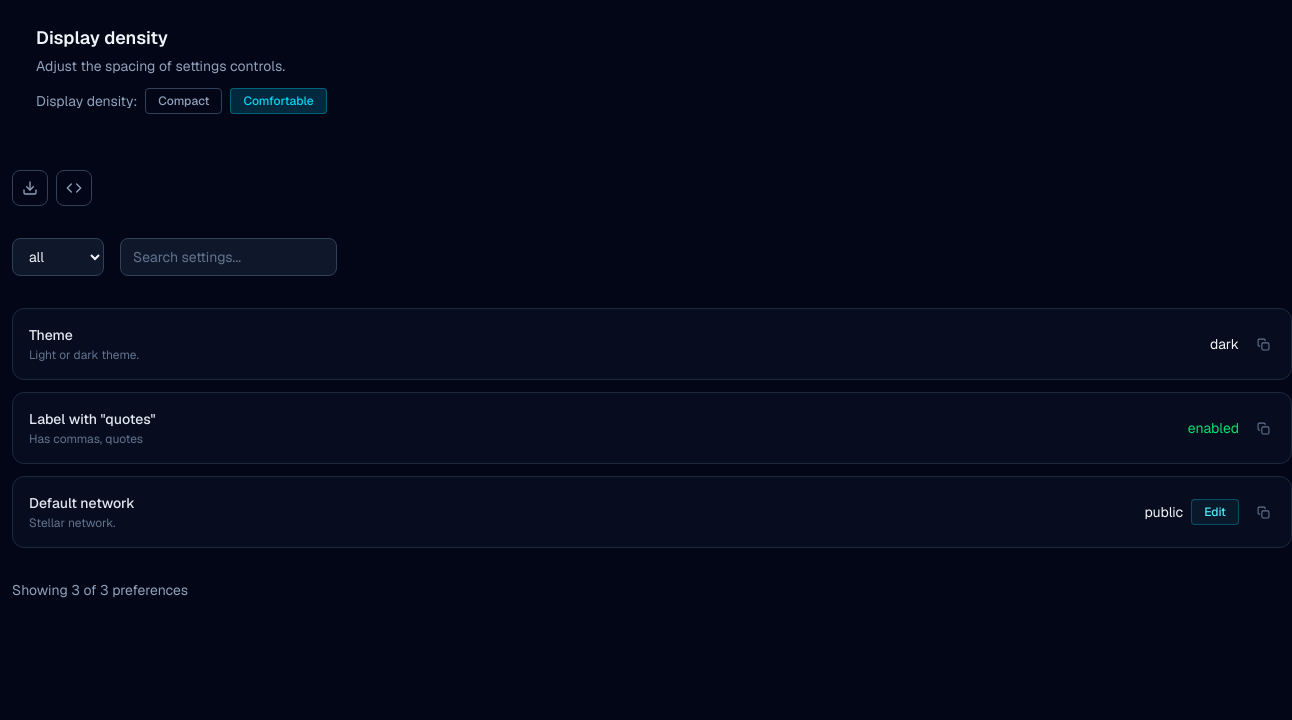
Test case: Settings page — theme export controls › CSV export › announces the export to assistive technology
This screenshot has width=1292, height=720.
Click the button with test id "export-csv-btn" at (30, 188), box x1=12 y1=170 x2=48 y2=206
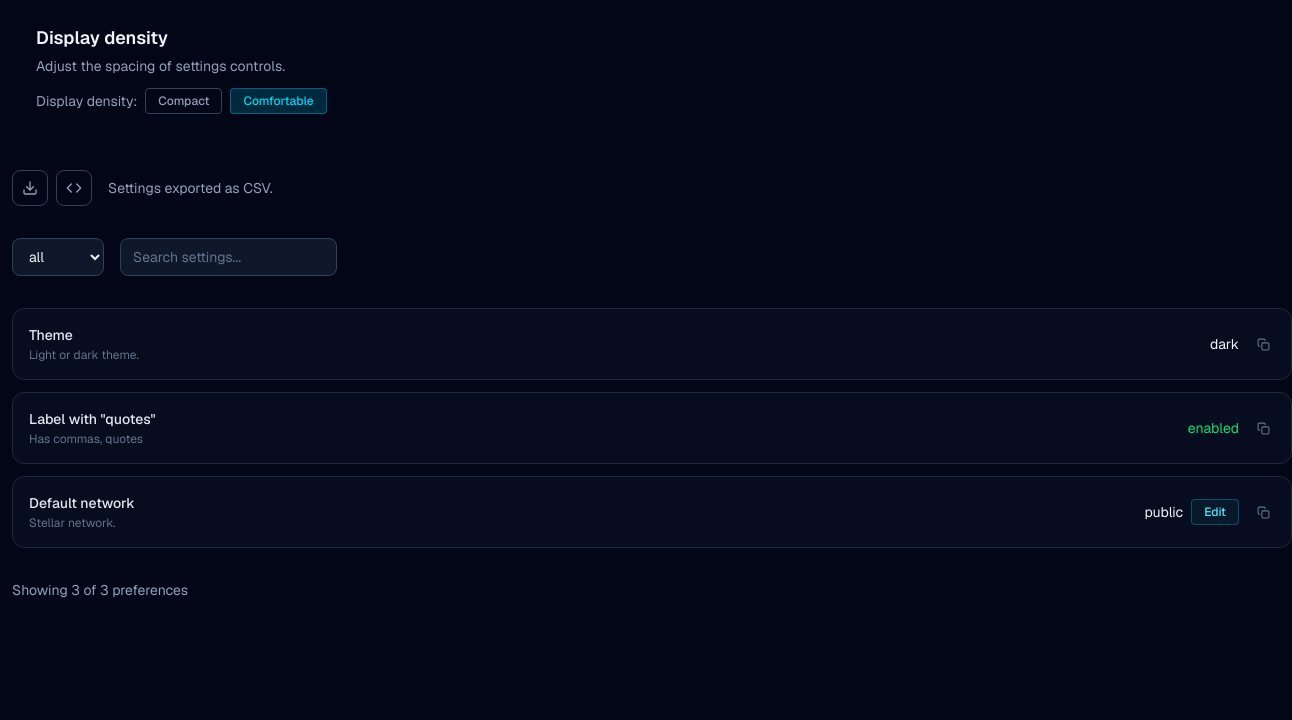
Check: the text with test id "export-announce" reads "Settings exported as CSV.", box x1=108 y1=179 x2=273 y2=197
